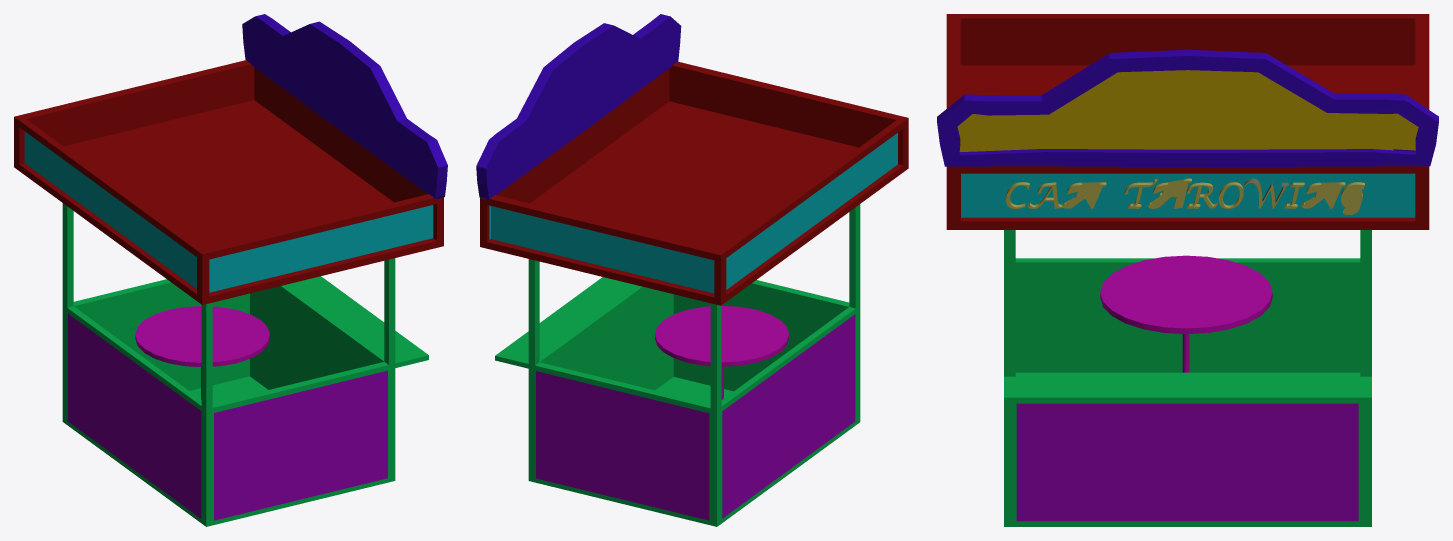
The model's file is 1-first_Booth.fbx.
3 renders of one model, left to right at view 1: azimuth 30°, elevation 25°; view 2: azimuth 150°, elevation 25°; view 3: azimuth 270°, elevation 25°, orthographic. The views are drawn at different scales.
Parts seen in each view (by area): view 1: polySurface87; view 2: polySurface87; view 3: polySurface87.
Part boxes in pixels (<box>): polySurface87: <box>14,14,447,526</box>; polySurface87: <box>476,14,908,526</box>; polySurface87: <box>937,14,1438,526</box>.
Bounding box in the file's own units: 3.68 × 5.37 × 5.01.
